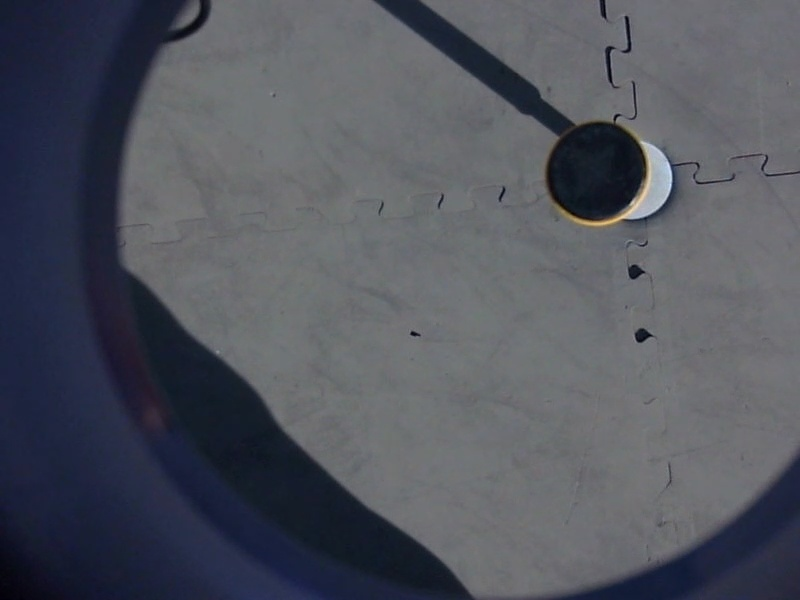tip: (537, 116, 656, 234)
